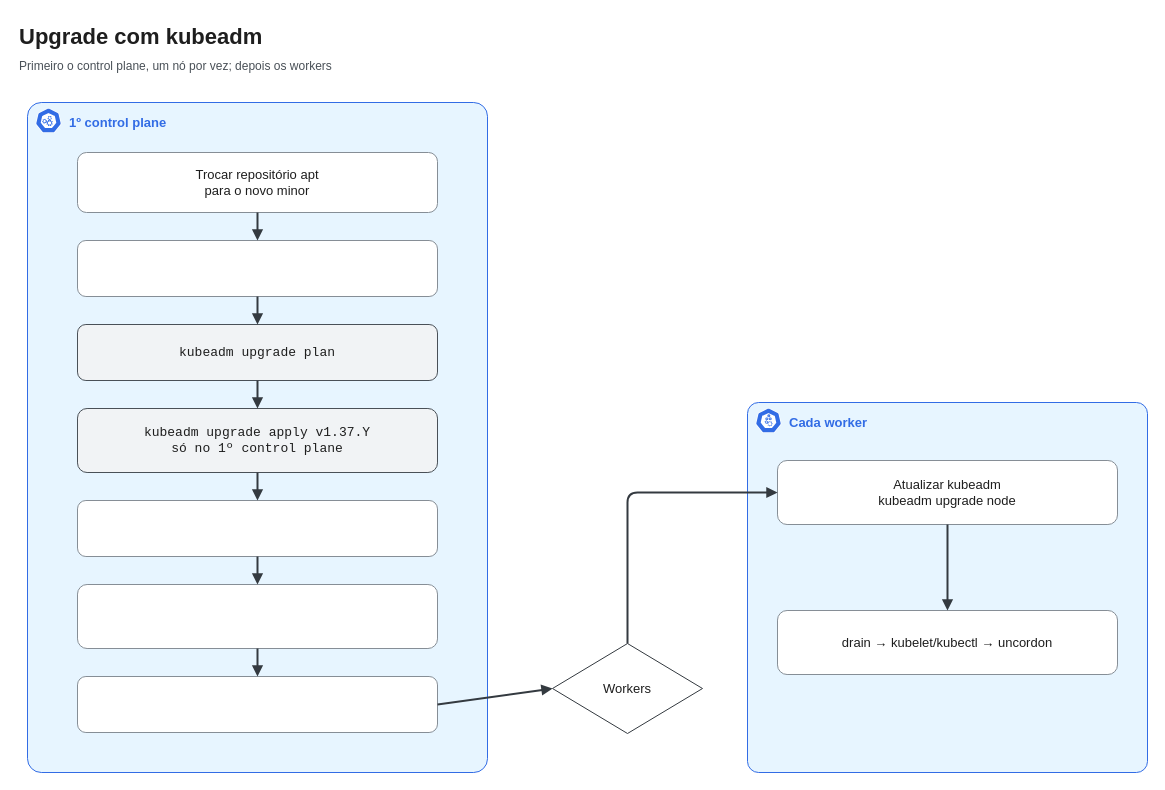
Some shapes in this 1165 by 790 pixel diagram are drawn without their labels. Here are the shapes that lost their labels. From the top down, the centre of each, then its label:
the point at 257,268: Atualizar pacote kubeadm
the point at 257,528: drain do nó
the point at 257,616: Atualizar kubelet + kubectl daemon-reload + restart kubelet
the point at 257,704: uncordon
